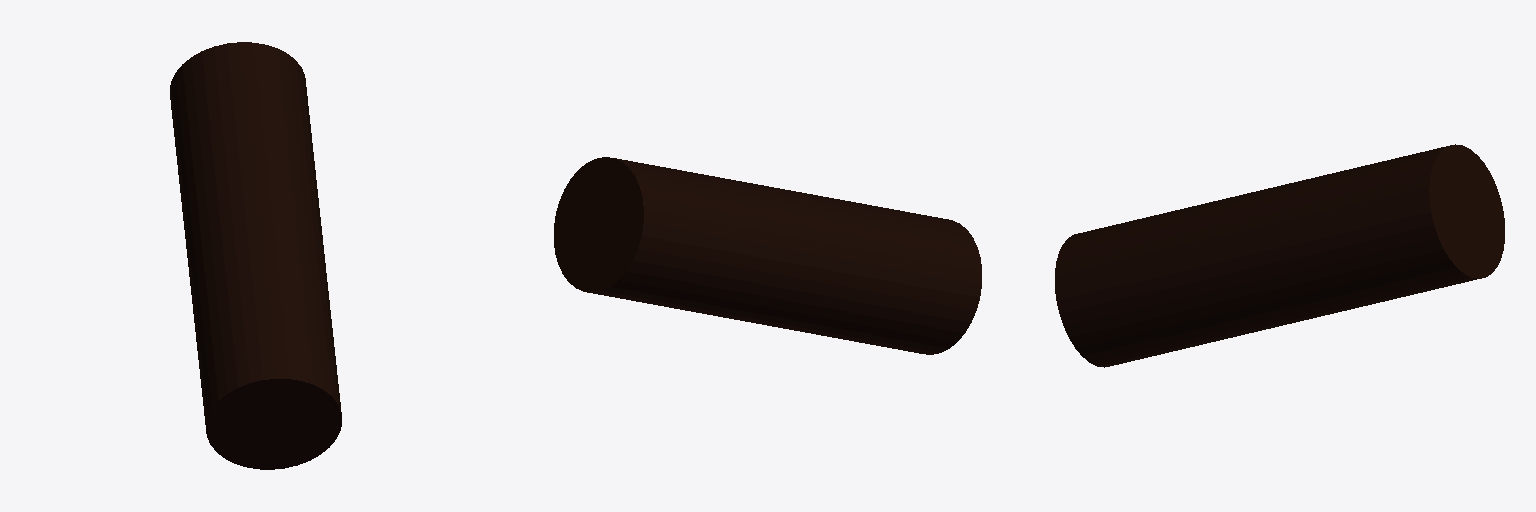
File: baulk.obj
3 views of the same model, side by side, from view 1: azimuth 30°, elevation 25°; view 2: azimuth 150°, elevation 25°; view 3: azimuth 270°, elevation 25° (orthographic).
Size of the model in its own units: 0.1755 by 0.1779 by 0.2628.